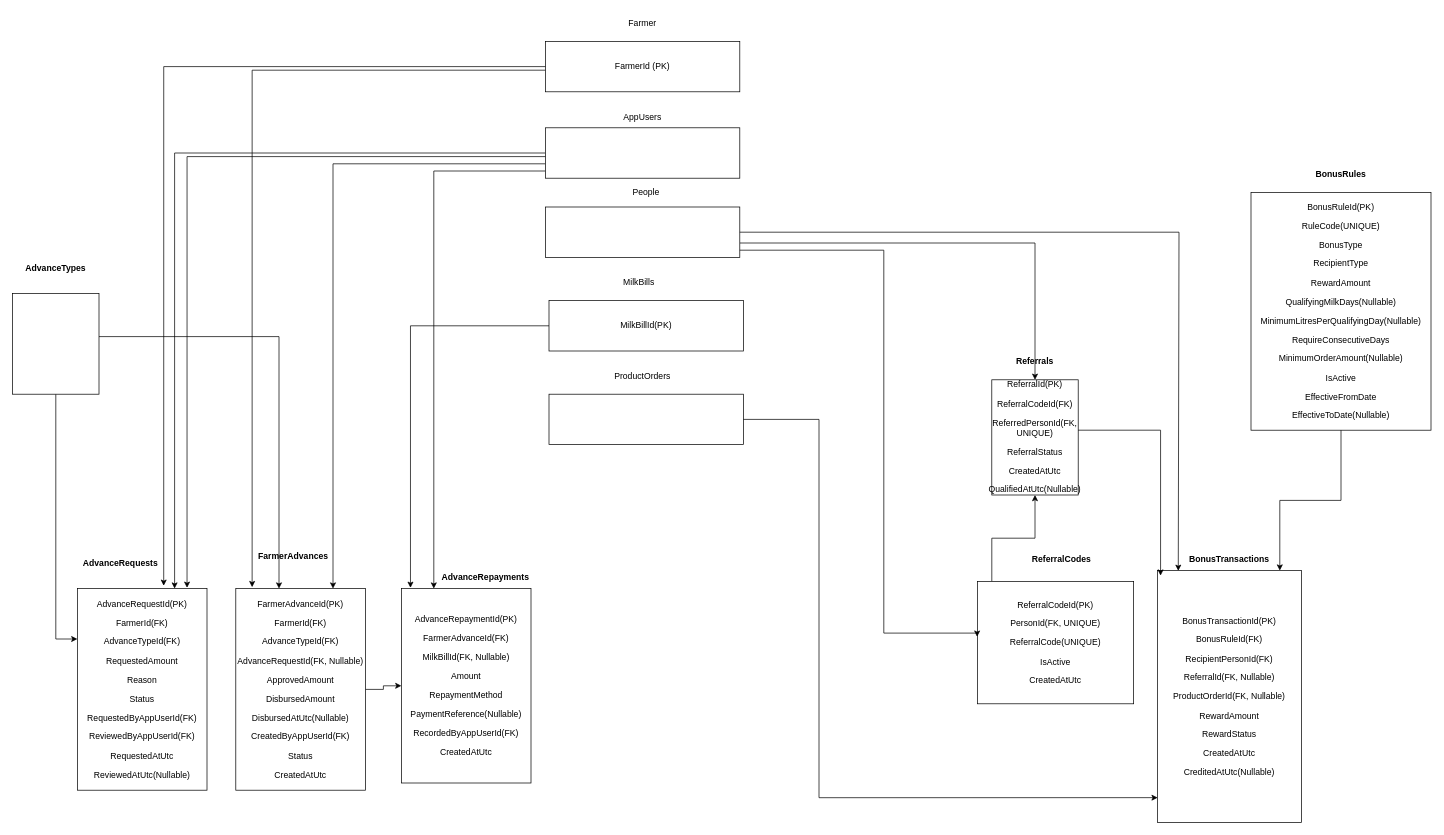
The diagram is 1444 pixels wide and 835 high, and some of its shapes have lost their labels. Each missing label, with the centre of its shape:
"AdvanceTypeId ( PK) TypeName Description IsActive" goes at [55,343].
"AppUserId (PK)" goes at [642,152].
"PersonId(PK)" goes at [642,231].
"ProductOrderId(PK)" goes at [645,419].
